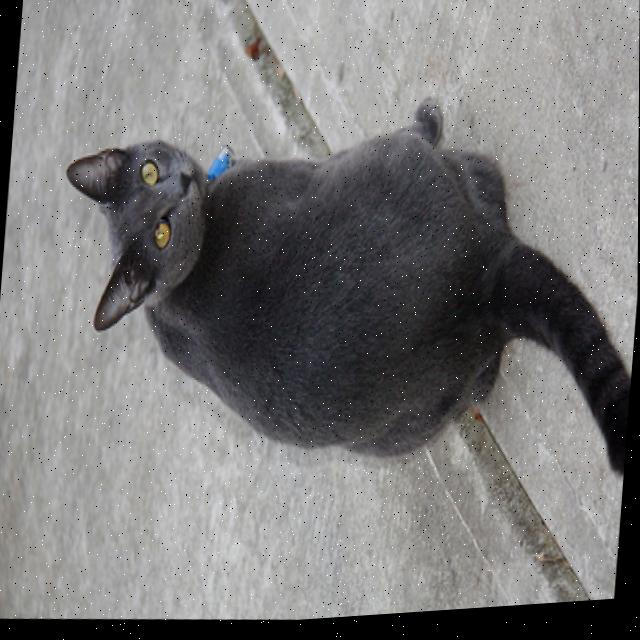Russian Blue: (39, 65, 639, 517)
